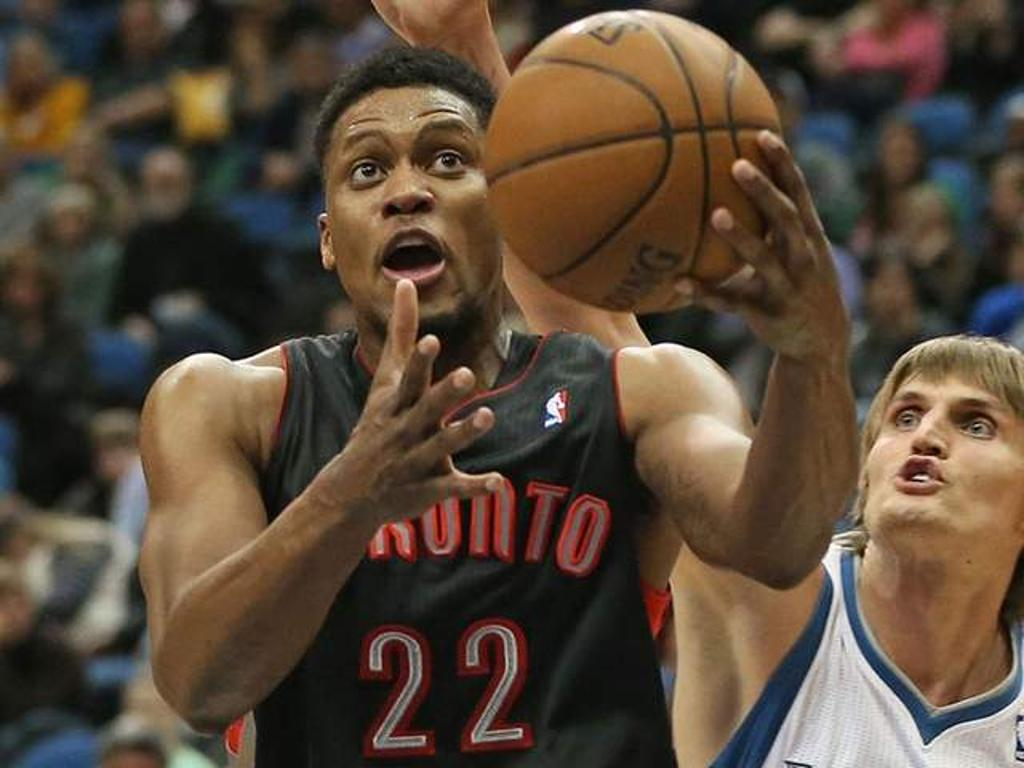face: (326, 102, 492, 326), (862, 340, 1018, 552)
